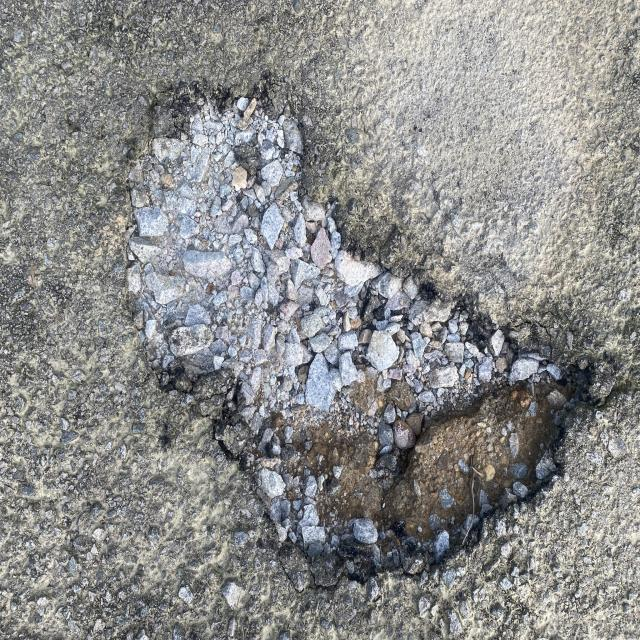pothole: (114, 45, 624, 635)
